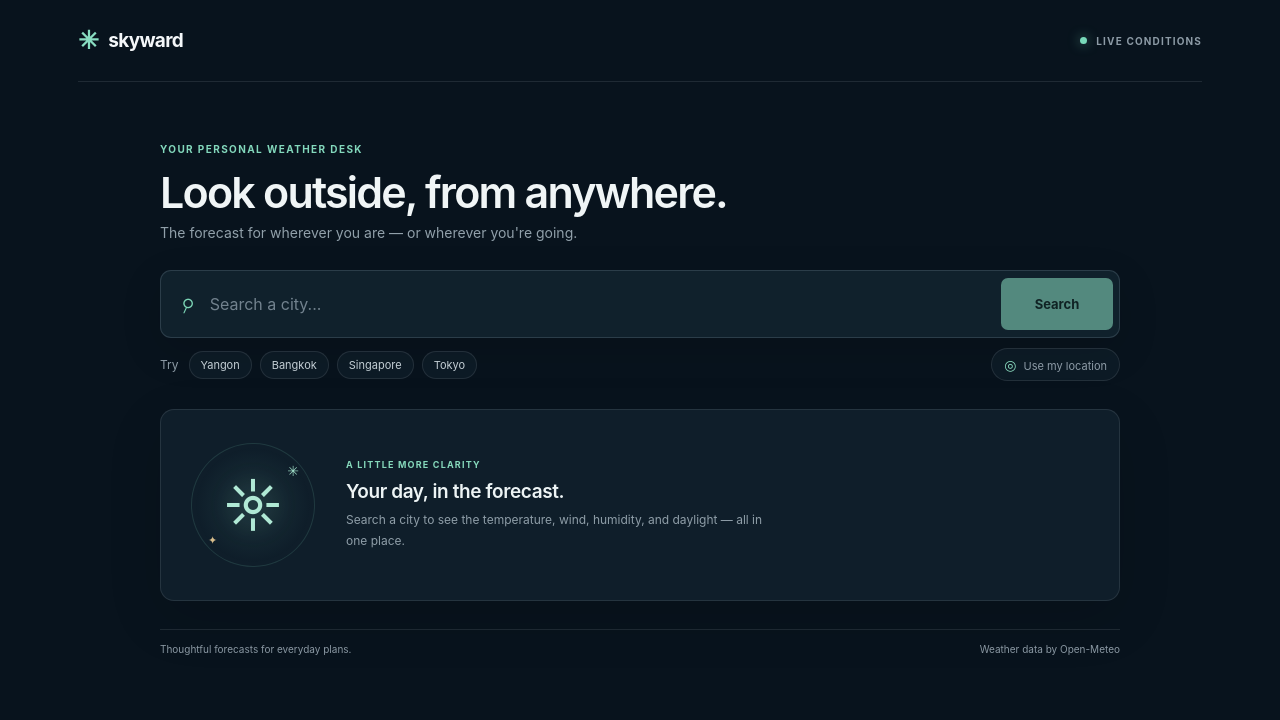
Scenario: shows the weather route error instead of silently failing
Type "Yangon" into the field named "Search for a city" at (598, 304), box [208,293,989,315]
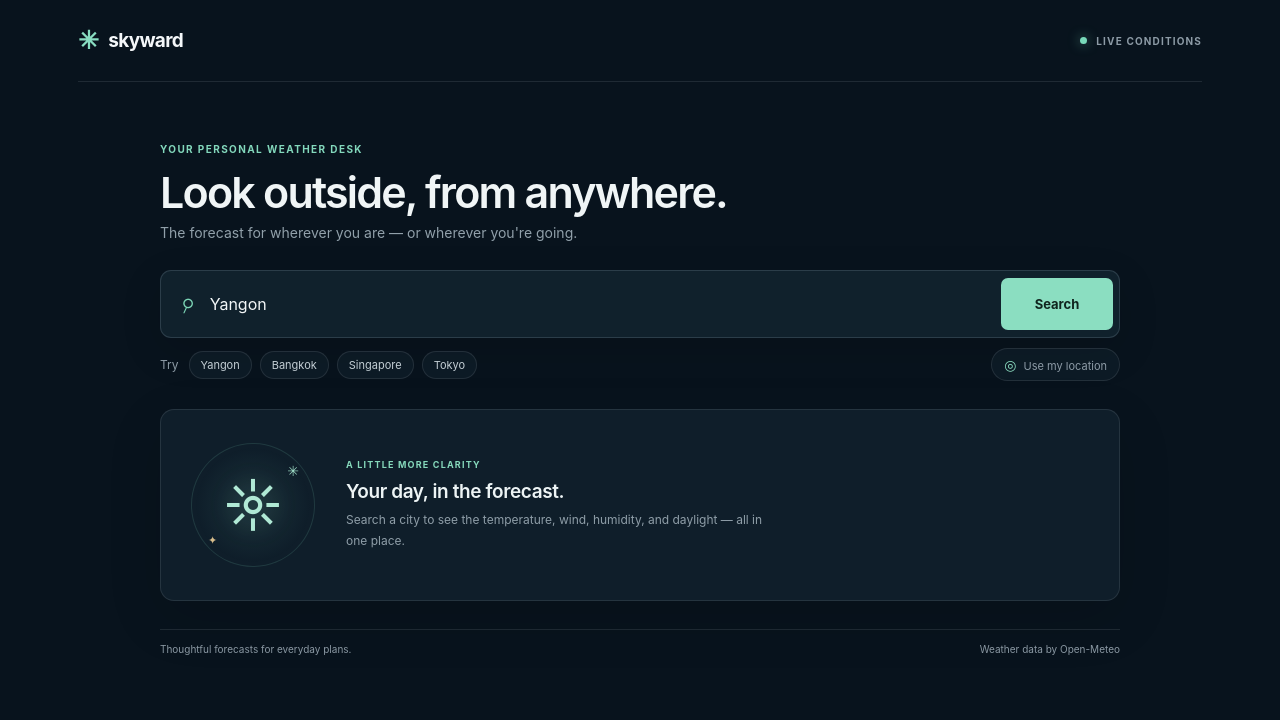
Click the button "Search" at (1057, 304), box [1001,278,1113,330]
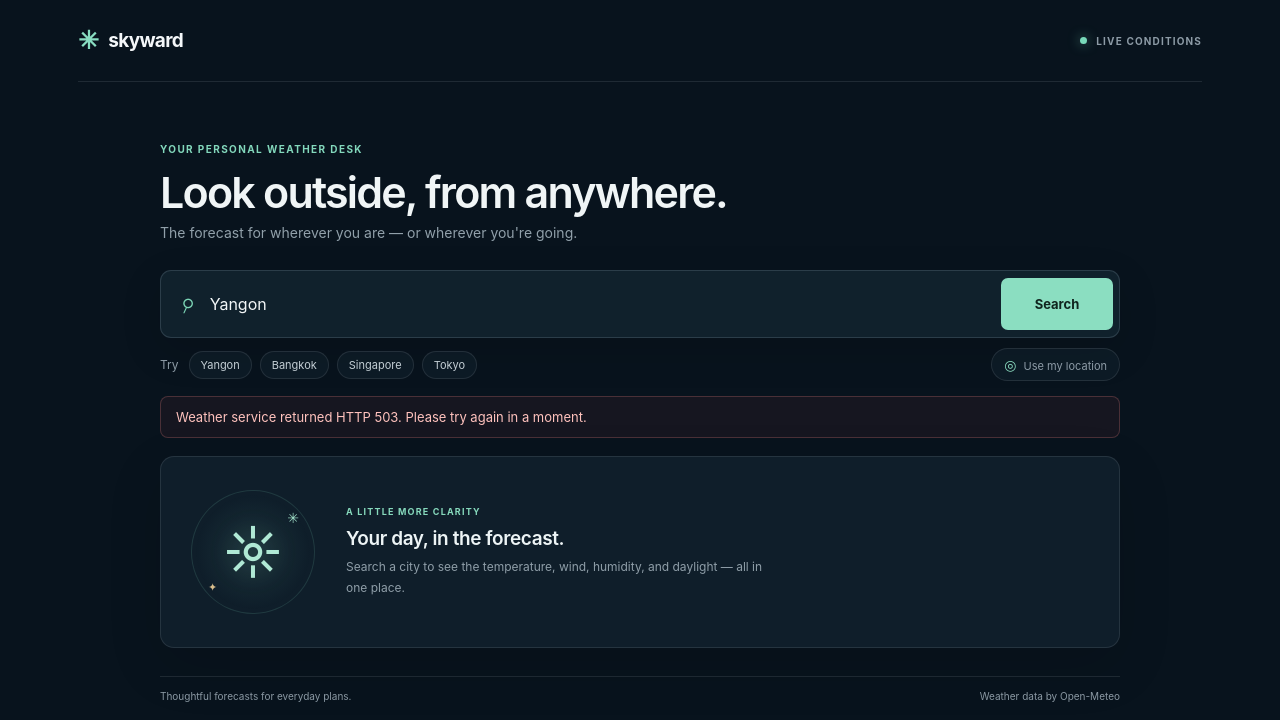
Expected: the message shows "Weather service returned HTTP 503", [176,409,587,425]
